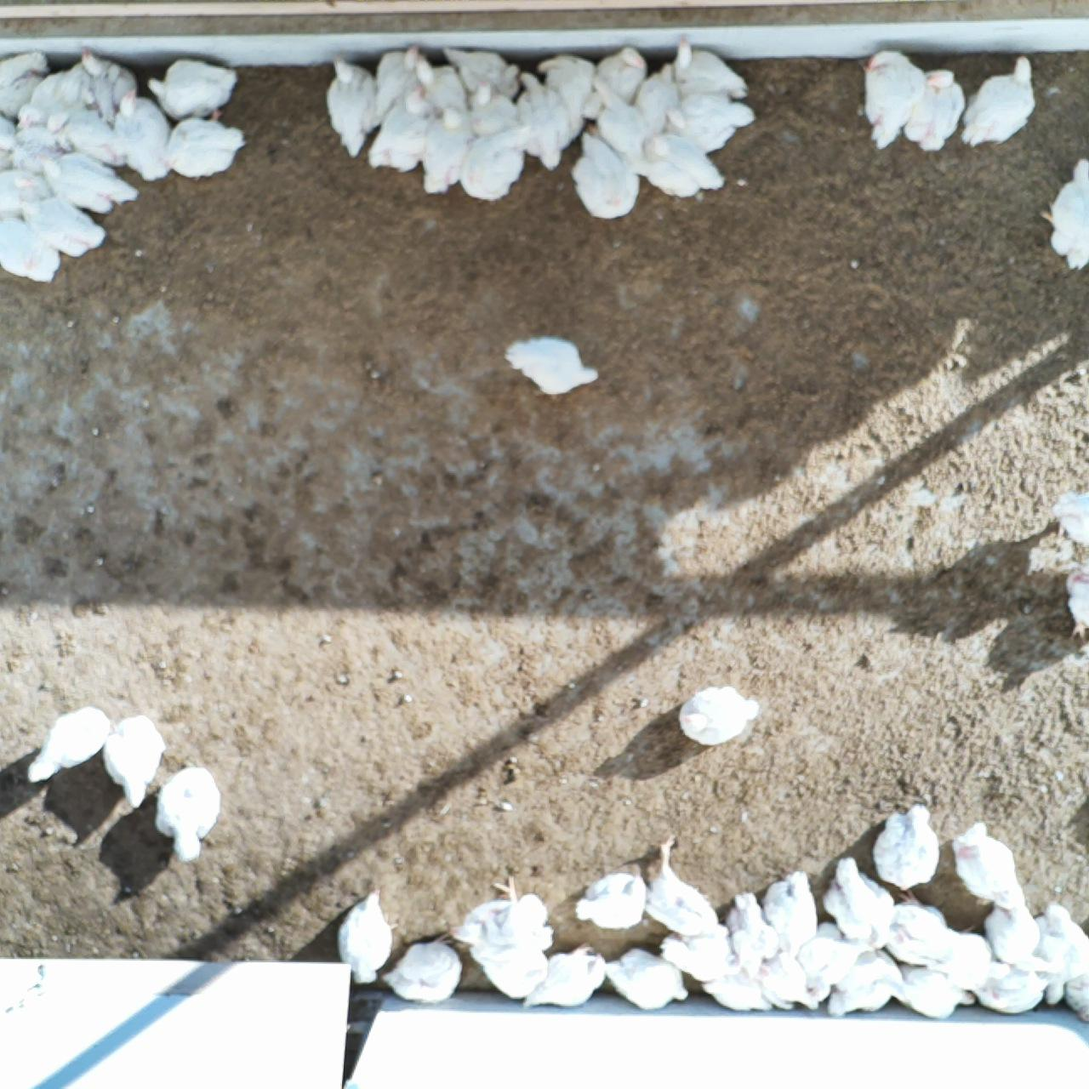chicken: (641, 834, 730, 940), (149, 757, 229, 865), (958, 50, 1038, 157), (447, 873, 557, 950), (33, 144, 142, 220), (949, 819, 1032, 914), (855, 45, 927, 154), (23, 702, 114, 787), (499, 328, 602, 402), (866, 798, 944, 892), (821, 851, 895, 949), (101, 710, 170, 814), (335, 883, 402, 989), (569, 129, 645, 222), (510, 70, 577, 174), (381, 928, 466, 1009), (319, 51, 383, 158), (109, 86, 180, 182), (144, 54, 241, 124), (13, 193, 110, 262), (160, 104, 248, 180), (599, 942, 692, 1012), (1035, 154, 1089, 273), (674, 679, 764, 750), (522, 942, 610, 1014), (758, 863, 824, 958), (1031, 900, 1089, 1008), (664, 32, 754, 101), (535, 50, 599, 147), (981, 896, 1056, 978), (879, 889, 953, 971), (412, 105, 478, 196), (666, 91, 758, 155), (904, 64, 968, 154), (458, 121, 527, 204), (642, 135, 730, 199), (467, 936, 550, 1002), (890, 960, 978, 1022), (824, 949, 898, 1022), (719, 884, 778, 974), (369, 90, 429, 178), (571, 869, 654, 932), (18, 62, 89, 134), (934, 927, 1009, 993), (77, 41, 143, 115), (51, 105, 132, 165), (795, 934, 871, 997), (0, 213, 64, 287), (440, 46, 523, 103), (658, 921, 733, 984), (756, 948, 822, 1015), (970, 961, 1049, 1016), (377, 41, 428, 121), (0, 104, 61, 170), (702, 968, 776, 1019), (0, 47, 54, 116), (409, 57, 473, 115), (591, 43, 652, 101), (633, 58, 682, 130), (462, 83, 524, 139), (0, 167, 49, 220), (1049, 487, 1089, 551), (1060, 559, 1089, 644)
